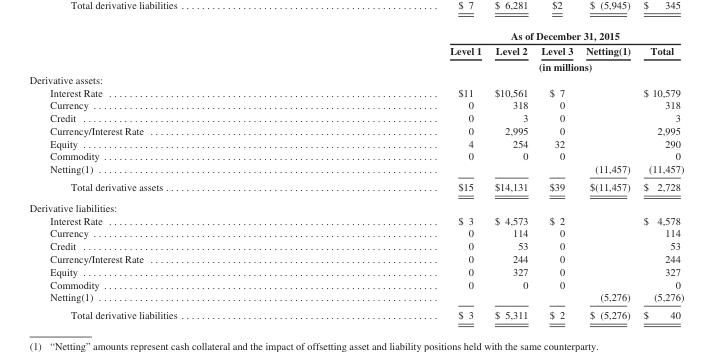table: (28, 29, 683, 320)
table column: (28, 29, 312, 320), (312, 29, 487, 320), (578, 29, 636, 320), (636, 29, 683, 320), (487, 29, 533, 320), (533, 29, 578, 320)
table column header: (28, 29, 683, 72)
table projected row header: (28, 196, 683, 213), (28, 72, 683, 85)
table row: (28, 177, 683, 196), (28, 196, 683, 213), (28, 43, 683, 58), (28, 162, 683, 177), (28, 290, 683, 305), (28, 305, 683, 320), (28, 29, 683, 43), (28, 58, 683, 72), (28, 72, 683, 85), (28, 85, 683, 98), (28, 98, 683, 111), (28, 123, 683, 136), (28, 136, 683, 149), (28, 149, 683, 162), (28, 213, 683, 226), (28, 226, 683, 239), (28, 239, 683, 252), (28, 264, 683, 277), (28, 277, 683, 290), (28, 111, 683, 123), (28, 252, 683, 264)
table spanning cell: (312, 29, 683, 43), (312, 58, 683, 72)
